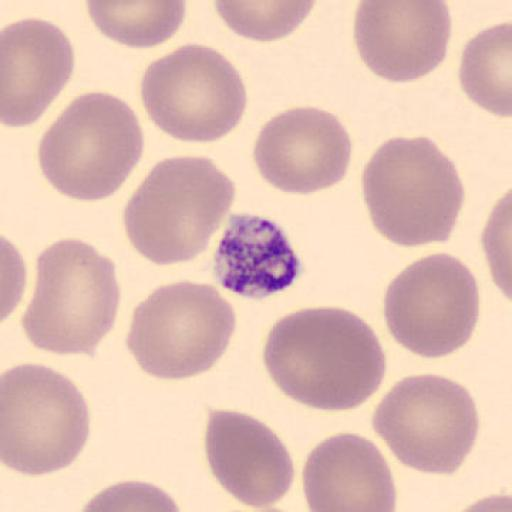Platelet: (211, 210, 307, 302)
RBC: (260, 304, 388, 413), (122, 153, 236, 269), (36, 89, 145, 203), (359, 133, 466, 249), (23, 236, 122, 359), (125, 278, 238, 382), (371, 372, 481, 476), (138, 42, 250, 144), (382, 251, 481, 361), (2, 360, 92, 478), (252, 104, 354, 198), (202, 408, 296, 510), (352, 0, 452, 85), (2, 16, 76, 130), (300, 431, 398, 512), (458, 19, 512, 119), (84, 0, 188, 49), (212, 0, 317, 42), (74, 476, 185, 512), (480, 186, 512, 307), (0, 232, 28, 325), (449, 492, 512, 512)
